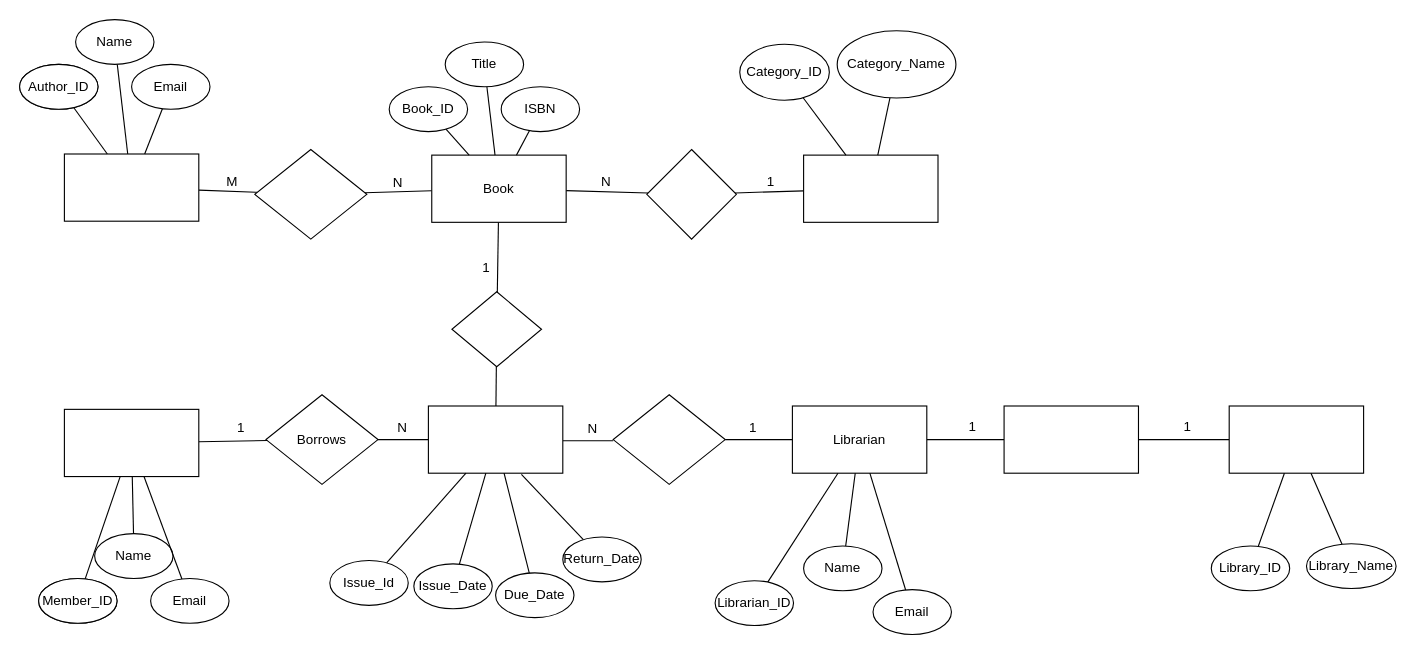
This 1416x654 diagram has some shape labels left out. The shapes that lost their labels are listed below. From the top down, each one's box as (x1, y1, x2, y2) in pixels, then its label:
(63, 153, 199, 221): Author
(254, 148, 367, 239): Writes
(646, 148, 736, 239): Belogns To
(802, 154, 938, 222): Category
(451, 291, 542, 367): Issued IN
(63, 408, 199, 477): Member
(427, 405, 563, 473): Issue
(612, 394, 725, 484): Processed By
(1003, 405, 1138, 473): Manages
(1228, 405, 1364, 473): LIbrary
